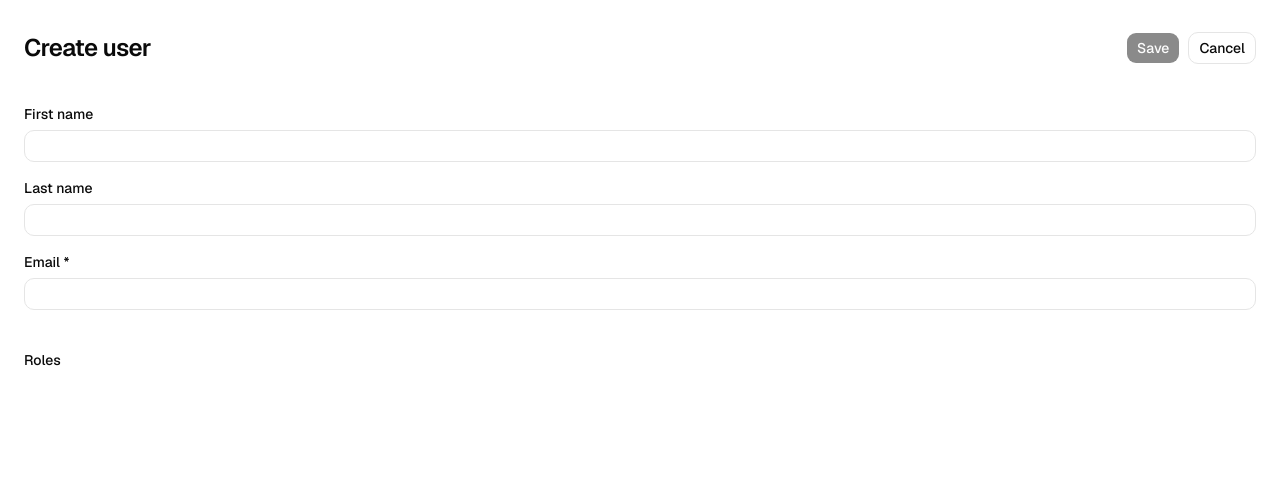
Test: CreateUserForm › shows Invalid email address on submit and stays on the form
The width and height of the screenshot is (1280, 483).
Type "not-an-email" into the field with test id "create-user-email" at (640, 294), box 24,278 -> 1256,310
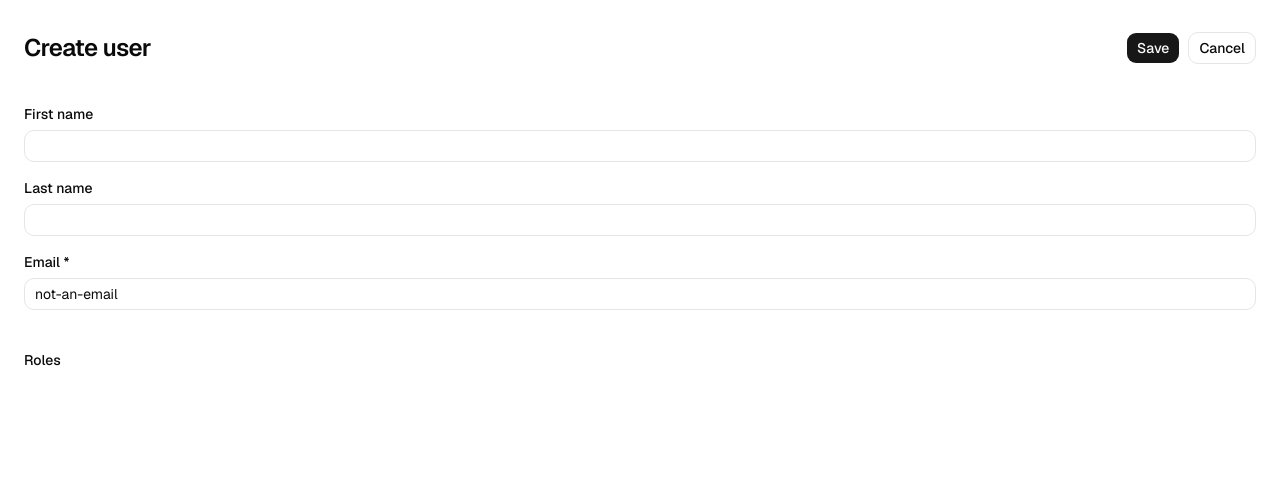
Submit the form with test id "create-user-form"
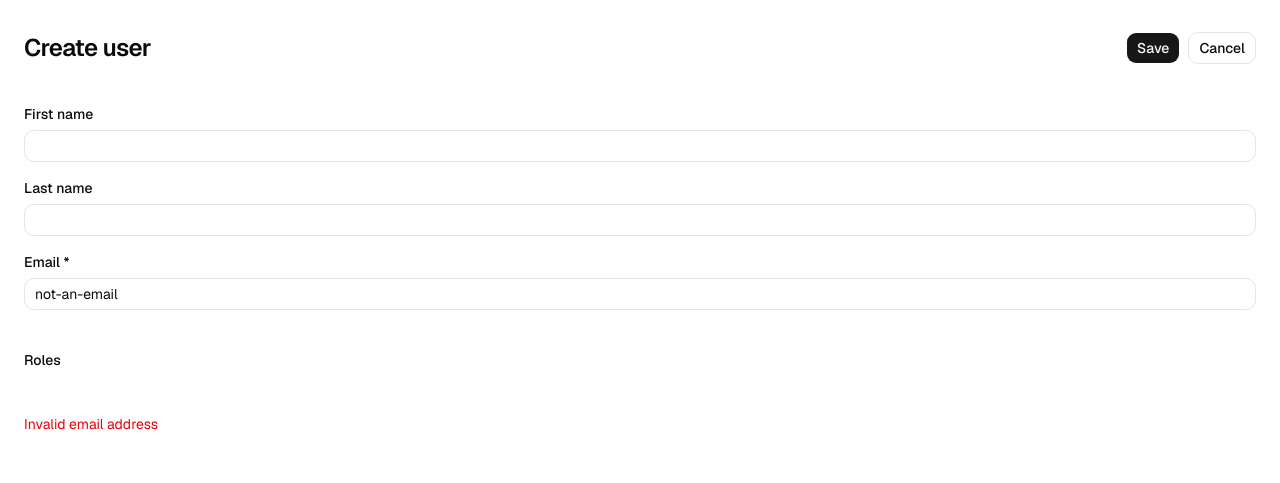
Result: the message with test id "create-user-error" reads "Invalid email address" at 24,415 -> 158,433
